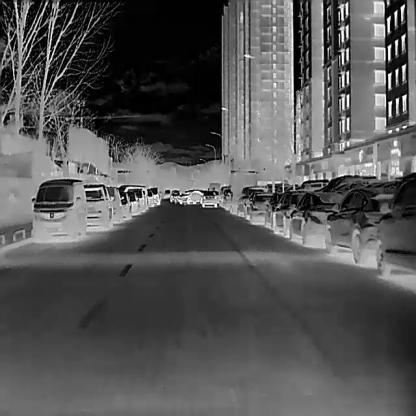car: (324, 185, 392, 262), (376, 173, 415, 277), (31, 178, 86, 238), (289, 189, 341, 242), (83, 183, 112, 227), (249, 193, 272, 224), (106, 185, 122, 225), (178, 190, 202, 202), (202, 192, 217, 208), (171, 189, 179, 202), (165, 189, 171, 198)
